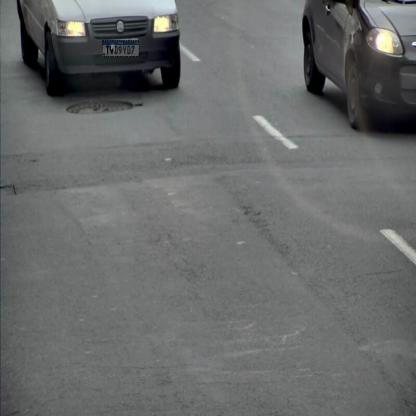PlacaM: (102, 40, 139, 57)
